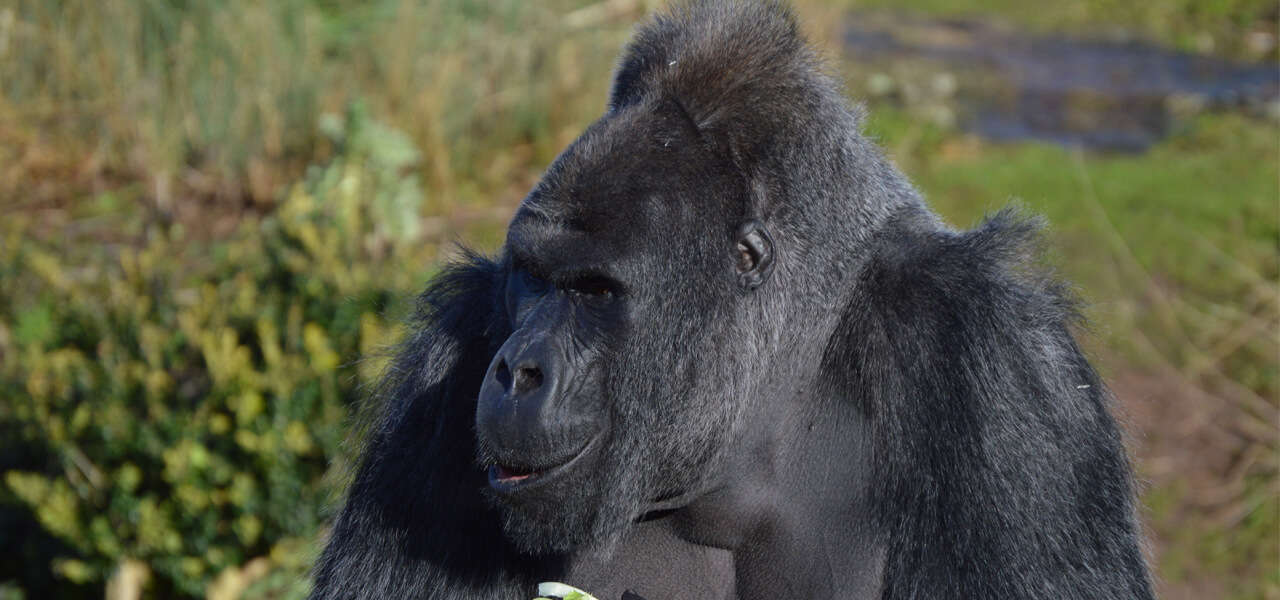Gorilla: (368, 51, 1074, 580)
